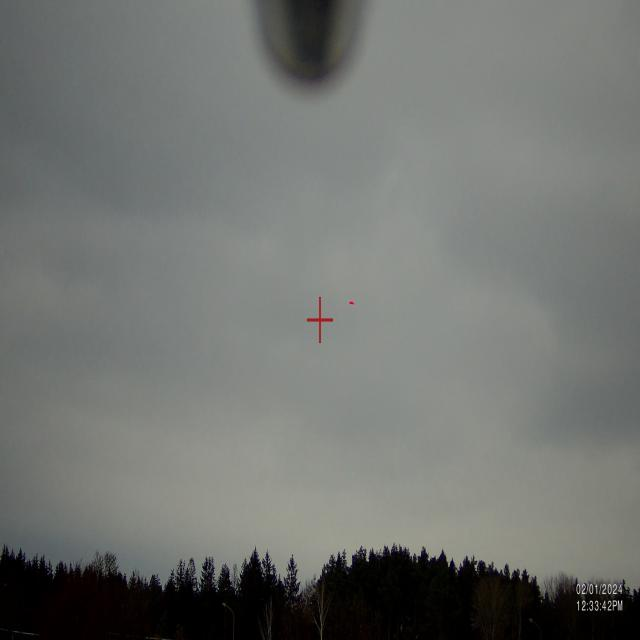entire: (344, 296, 358, 310)
